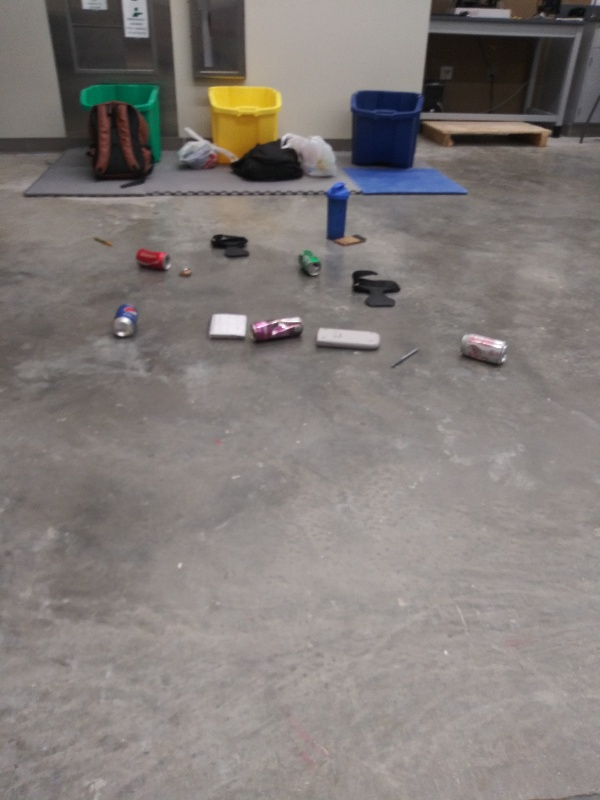can: (249, 312, 307, 347), (458, 331, 511, 366), (132, 246, 174, 275), (111, 302, 142, 340), (297, 246, 325, 281)
